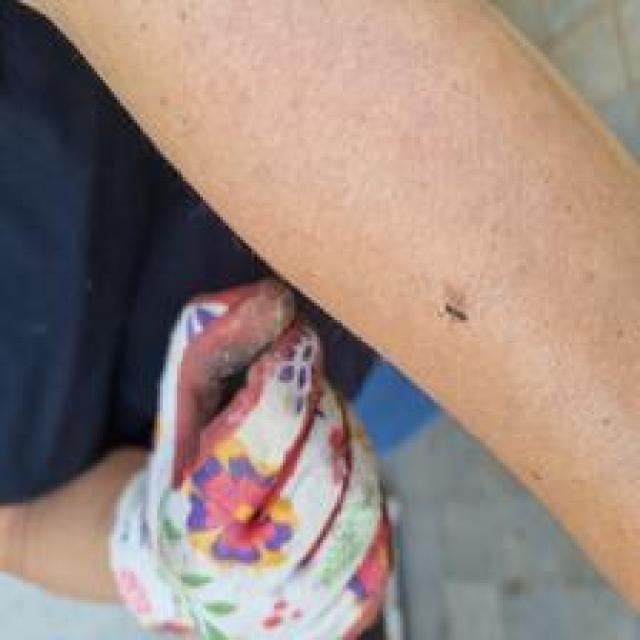Aedes albopictus: (109, 291, 397, 640)
